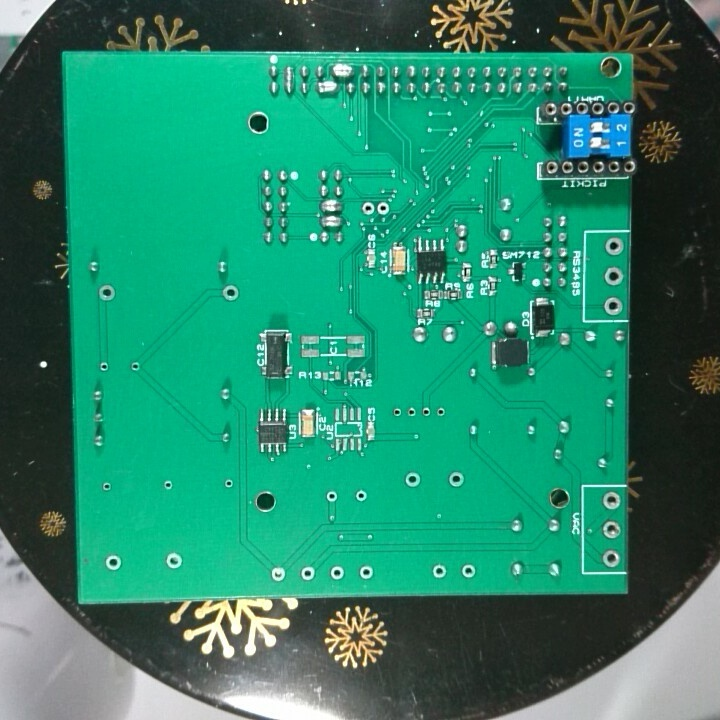F: (602, 265, 625, 289), (602, 295, 625, 318), (603, 236, 625, 259), (601, 518, 623, 541), (601, 489, 622, 513), (601, 547, 623, 569), (97, 283, 117, 306), (220, 283, 240, 305), (163, 551, 183, 572), (445, 469, 465, 490), (402, 469, 422, 489), (102, 554, 123, 573), (268, 565, 288, 583), (459, 562, 477, 581), (375, 198, 391, 219), (430, 562, 447, 581), (328, 563, 345, 582), (359, 198, 375, 218), (357, 563, 374, 580), (299, 565, 316, 582), (323, 488, 339, 506), (98, 478, 114, 495), (433, 405, 450, 420), (220, 476, 235, 492), (389, 405, 405, 420), (404, 406, 419, 422), (419, 404, 434, 420), (128, 358, 142, 375), (160, 478, 175, 493), (353, 488, 368, 503), (97, 358, 110, 375)
P: (282, 63, 296, 98), (319, 197, 346, 214), (318, 213, 345, 229), (330, 61, 354, 79), (315, 78, 339, 94)
